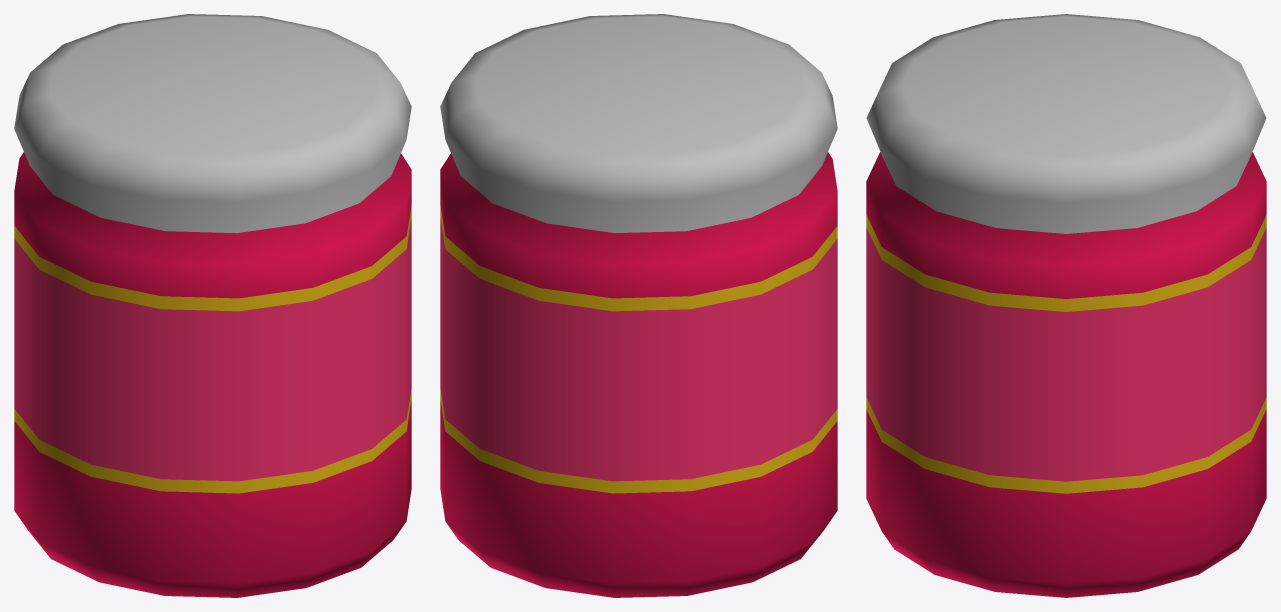
3 renders of one model, left to right at view 1: azimuth 30°, elevation 25°; view 2: azimuth 150°, elevation 25°; view 3: azimuth 270°, elevation 25°, orthographic.
Parts seen in each view (by area): view 1: Cylinder.002; view 2: Cylinder.002; view 3: Cylinder.002.
Boxes of the visible parts, bbox=[...] form: Cylinder.002: bbox=[14, 14, 411, 597]; Cylinder.002: bbox=[440, 14, 837, 597]; Cylinder.002: bbox=[866, 14, 1266, 597].
Bounding box in the file's own units: 0.3175 × 0.3792 × 0.3175.
1 material, 1 textured.
